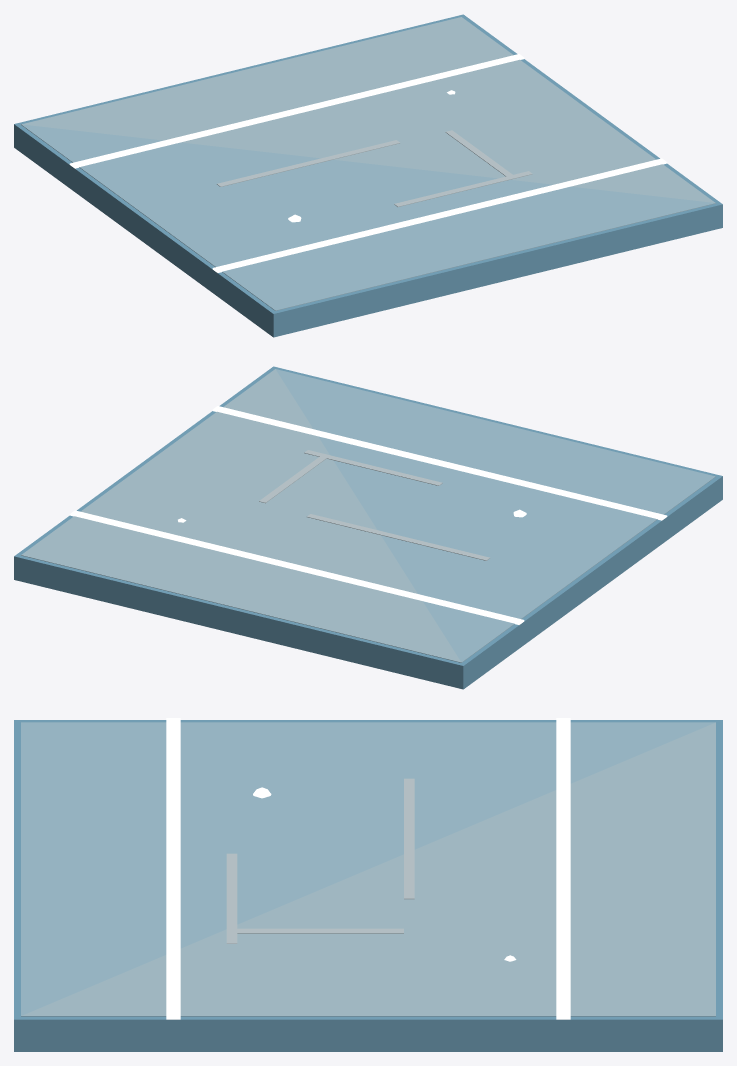
The model's file is kit-arctic-floor-2.glb.
3 renders of one model, top to bottom at view 1: azimuth 30°, elevation 25°; view 2: azimuth 150°, elevation 25°; view 3: azimuth 270°, elevation 25°, orthographic. The views are drawn at different scales.
Parts seen in each view (by area): view 1: kit-arctic-floor-2; view 2: kit-arctic-floor-2; view 3: kit-arctic-floor-2.
Boxes of the visible parts, <box> form: kit-arctic-floor-2: <box>14,14,722,337</box>; kit-arctic-floor-2: <box>14,366,722,689</box>; kit-arctic-floor-2: <box>14,718,722,1051</box>.
Size of the model in its own units: 2 by 0.124 by 2.
